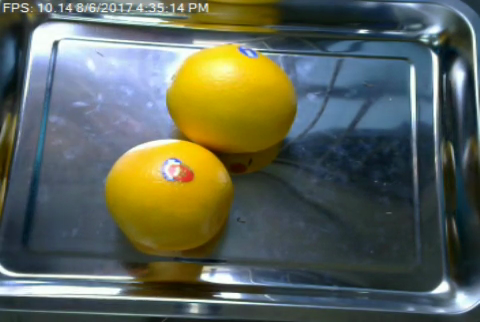Orange: (165, 44, 297, 154), (104, 138, 233, 249)
